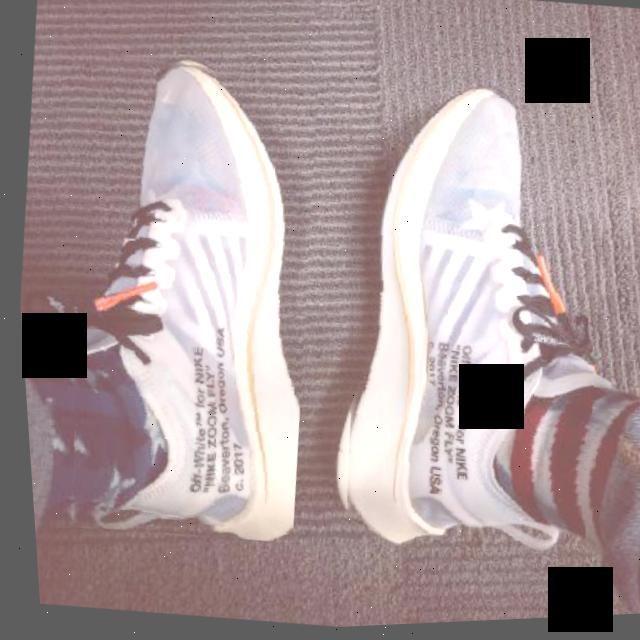shoe: (17, 42, 342, 554), (303, 69, 632, 574)
